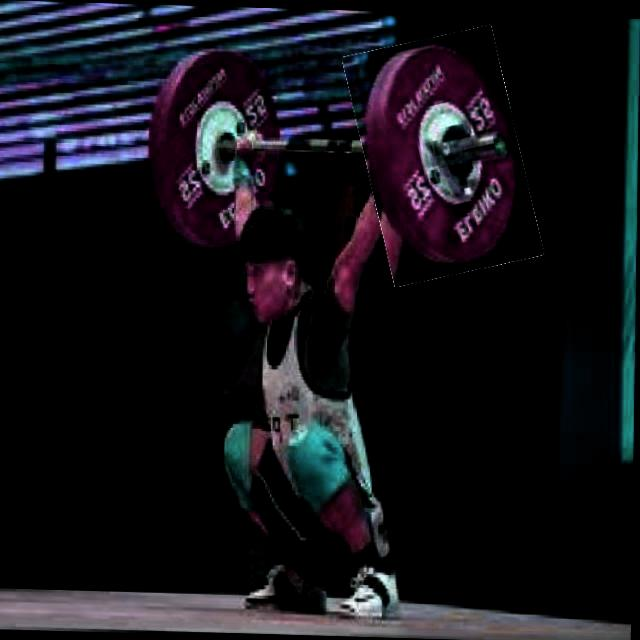barbell: (354, 27, 535, 281)
